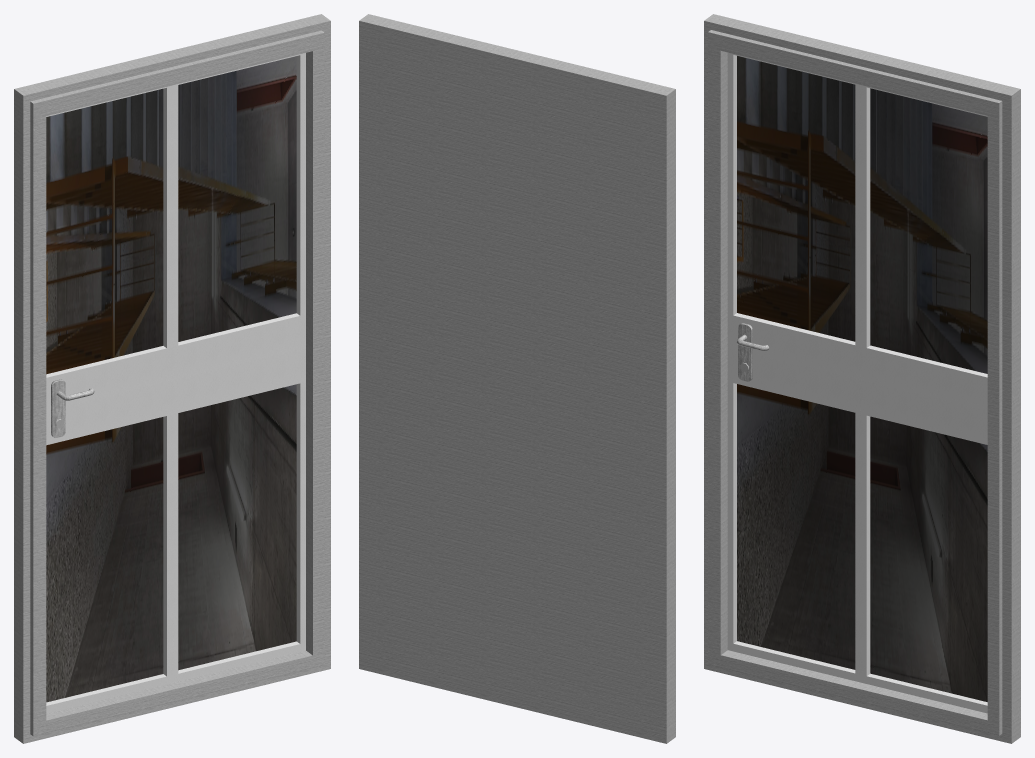
Rendered from Door.glb.
3 renders of one model, left to right at view 1: azimuth 30°, elevation 25°; view 2: azimuth 150°, elevation 25°; view 3: azimuth 330°, elevation 25°, orthographic.
Parts seen in each view (by area): view 1: Cube.024, Plane.003; view 2: Cube.024; view 3: Cube.024, Plane.003.
Part boxes in pixels (<box>): Cube.024: <box>14,14,330,743</box>; Plane.003: <box>51,379,65,437</box>; Cube.024: <box>359,14,675,743</box>; Cube.024: <box>704,14,1020,743</box>; Plane.003: <box>738,323,752,381</box>.
Size of the model in its own units: 3.05 by 6.14 by 0.259.
Materials: 4 (4 with a texture image).
